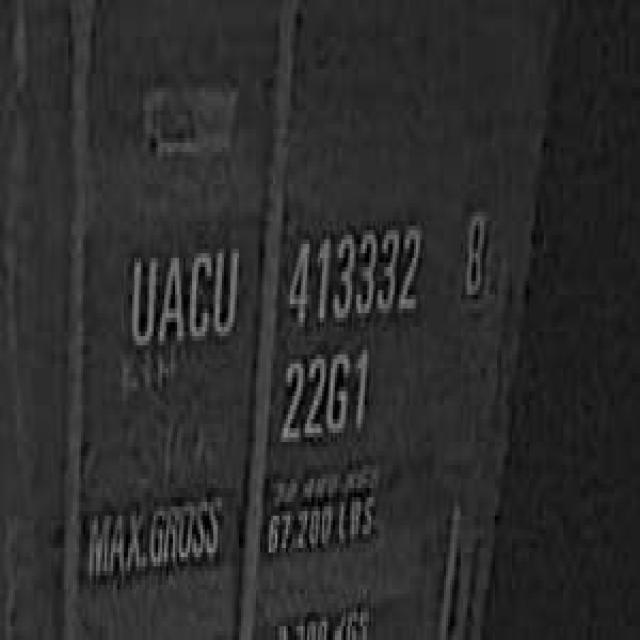dv: (456, 193, 491, 304)
owner: (124, 230, 241, 350)
serial: (284, 212, 424, 331)
size: (275, 336, 369, 447)
